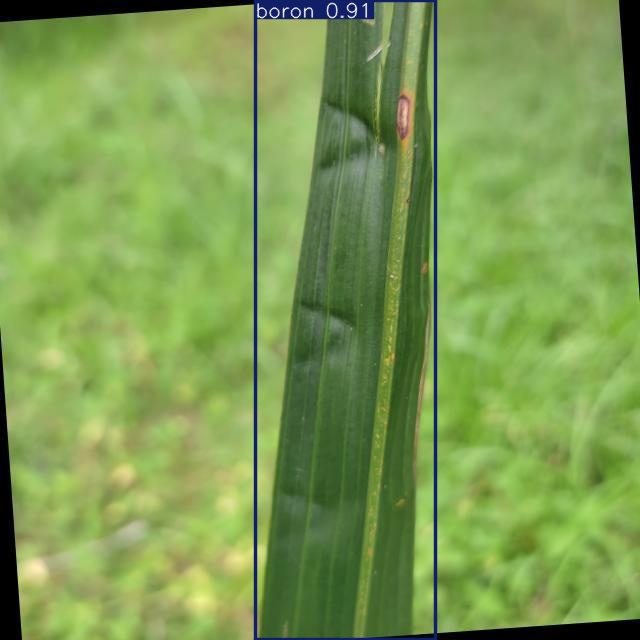nitrogen: (256, 1, 436, 640)
